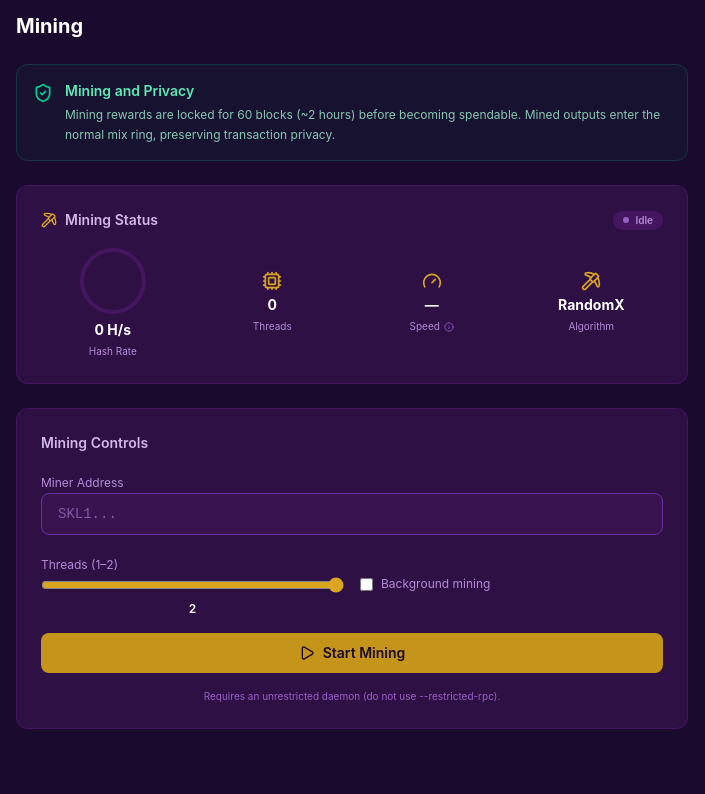
Mining › shows error when starting without address
Click the button "Start Mining" at (352, 653), box [41,633,663,673]
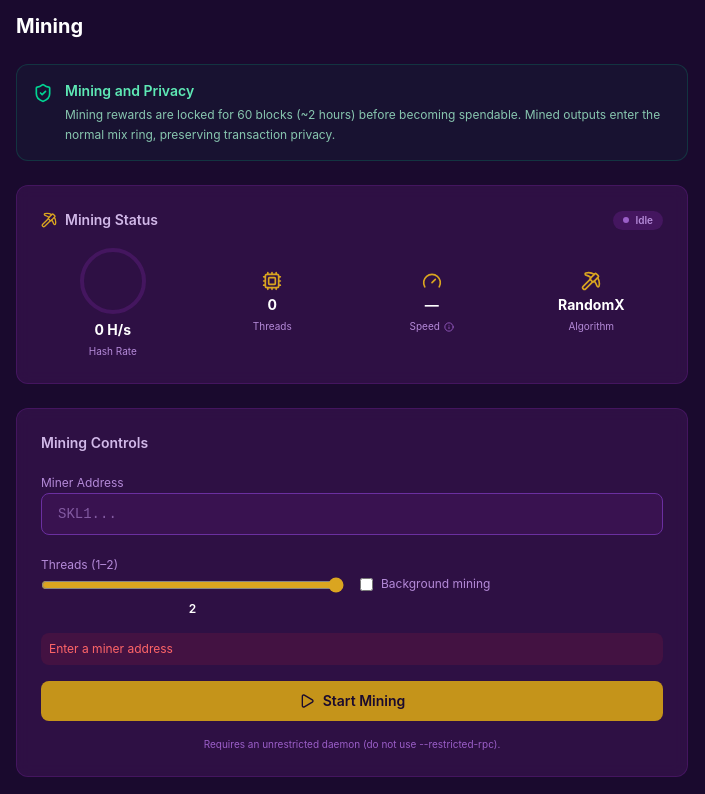
Expected: the text "Enter a miner address" is shown, [41,633,663,665]
